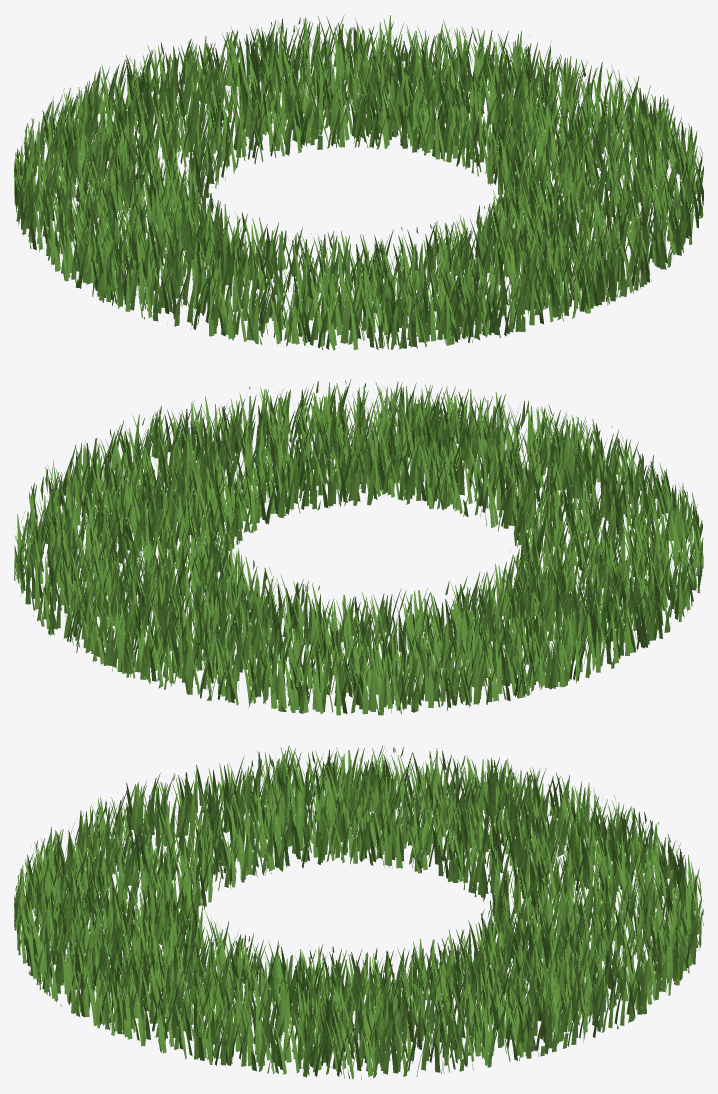
The model's file is GRASS.glb.
3 renders of one model, top to bottom at view 1: azimuth 30°, elevation 25°; view 2: azimuth 150°, elevation 25°; view 3: azimuth 270°, elevation 25°, orthographic.
Parts seen in each view (by area): view 1: GRASS; view 2: GRASS; view 3: GRASS.
Boxes of the visible parts, bbox=[...] form: GRASS: bbox=[14, 15, 703, 350]; GRASS: bbox=[14, 379, 703, 715]; GRASS: bbox=[14, 745, 703, 1079].
Size of the model in its own units: 20.49 by 1.54 by 20.5.
